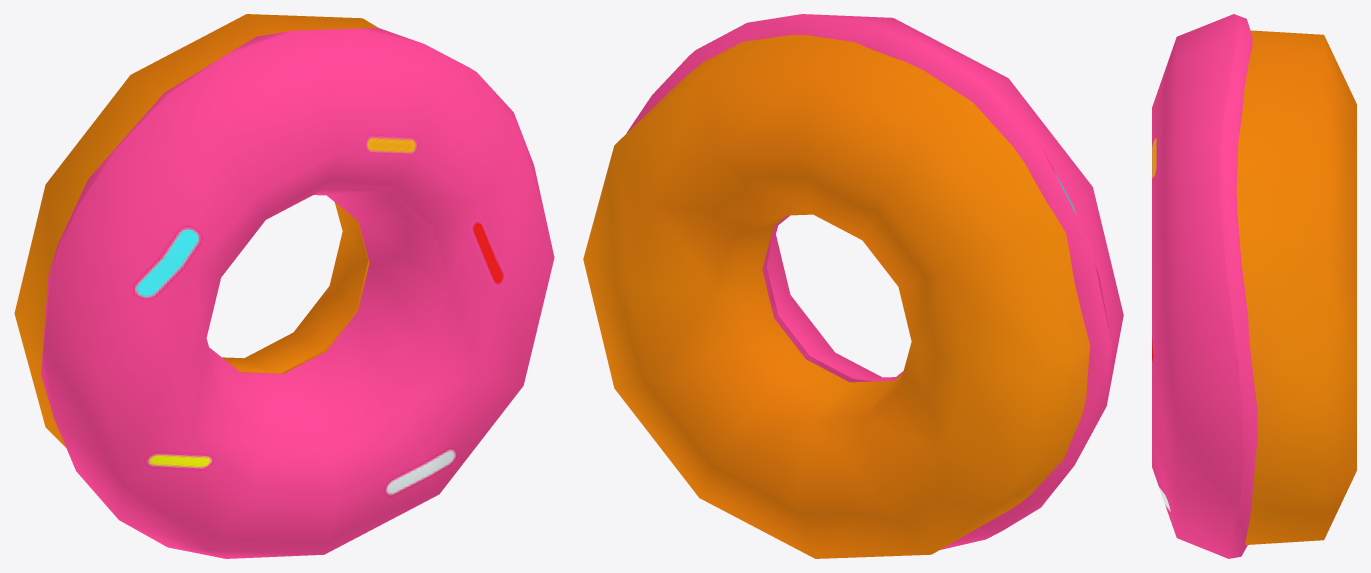
The model's file is pink_donut.glb.
3 renders of one model, left to right at view 1: azimuth 30°, elevation 25°; view 2: azimuth 150°, elevation 25°; view 3: azimuth 270°, elevation 25°, orthographic. The views are drawn at different scales.
Parts seen in each view (by area): view 1: Pink_Donut; view 2: Pink_Donut; view 3: Pink_Donut.
Boxes of the visible parts, x1,y1,x2,y2 form: Pink_Donut: (14,14,554,558); Pink_Donut: (583,14,1123,558); Pink_Donut: (1152,14,1356,558).
Size of the model in its own units: 0.5966 by 0.6007 by 0.2247.
Materials: 1 (1 with a texture image).
